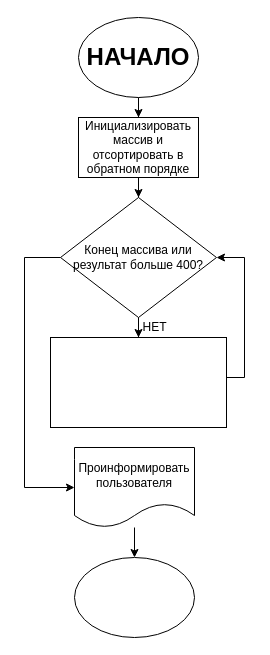
This 270x655 diagram has some shape labels left out. The box of each missing label's shape, as (x1, y1, x2, y2) in pixels:
Вычислить формулу sqrt(fabs(Х)) + 5 * pow(Х, 3); ++счетчик;: (50, 336, 226, 428)
КОНЕЦ: (74, 556, 194, 638)
